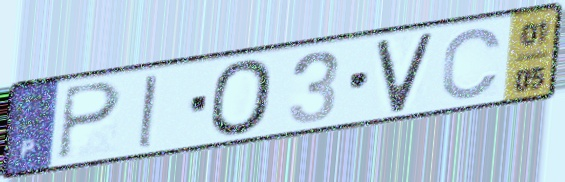3: (287, 49, 342, 125)
C: (437, 24, 506, 102)
I: (135, 71, 160, 152)
O: (208, 56, 277, 138)
P: (56, 79, 124, 164)
V: (373, 28, 437, 116)
